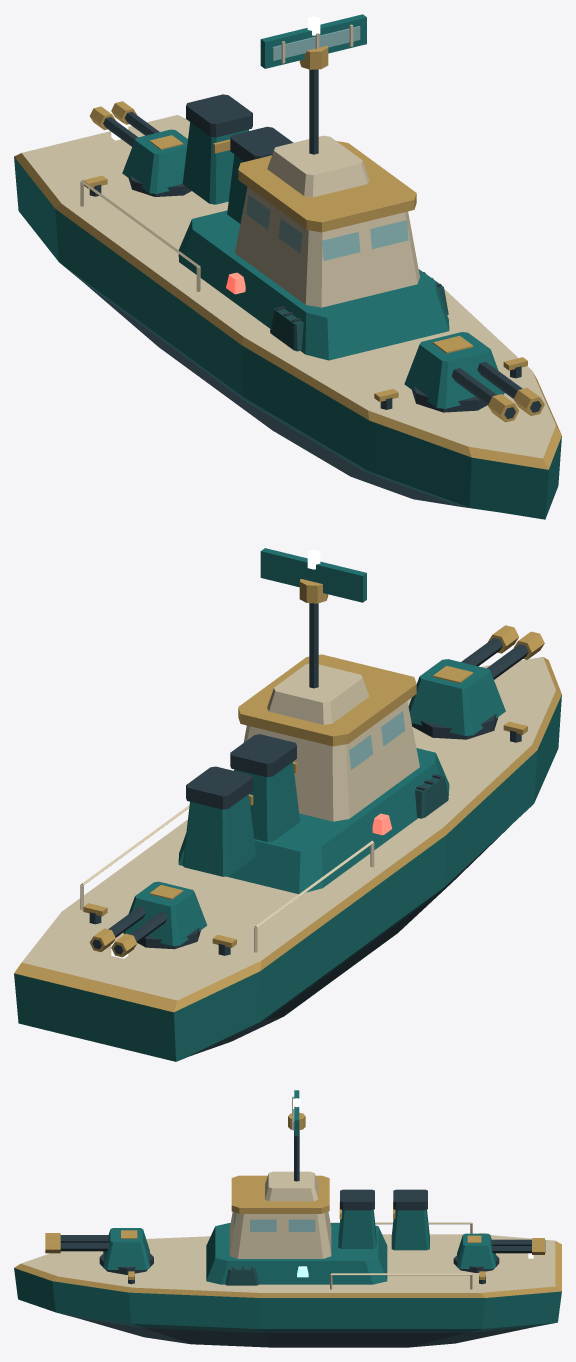
File: cruiser-player.glb
3 renders of one model, top to bottom at view 1: azimuth 30°, elevation 25°; view 2: azimuth 150°, elevation 25°; view 3: azimuth 270°, elevation 25°, orthographic. The views are drawn at different scales.
Parts seen in each view (by area): view 1: hull, funnel, turret, radar, turret_aft, barrel, barrel_aft; view 2: hull, funnel, turret, radar, turret_aft, barrel, barrel_aft; view 3: hull, funnel, turret, turret_aft, barrel, barrel_aft, radar.
Part boxes in pixels (x1,y1,x2,y2): hull: (14, 69, 561, 519); funnel: (182, 94, 293, 223); turret: (404, 332, 504, 412); radar: (260, 14, 366, 69); turret_aft: (122, 129, 191, 196); barrel: (451, 361, 544, 422); barrel_aft: (89, 101, 159, 146); hull: (14, 603, 561, 1061); funnel: (182, 734, 299, 876); turret: (408, 659, 505, 739); radar: (260, 548, 366, 603); turret_aft: (123, 881, 207, 949); barrel: (461, 625, 544, 679); barrel_aft: (89, 906, 167, 957); hull: (14, 1130, 561, 1347); funnel: (338, 1189, 429, 1250); turret: (99, 1228, 153, 1274); turret_aft: (453, 1233, 499, 1272); barrel: (45, 1233, 108, 1253); barrel_aft: (491, 1238, 545, 1254); radar: (288, 1090, 305, 1136).
Size of the model in its own units: 1.93 by 3.42 by 7.41.
